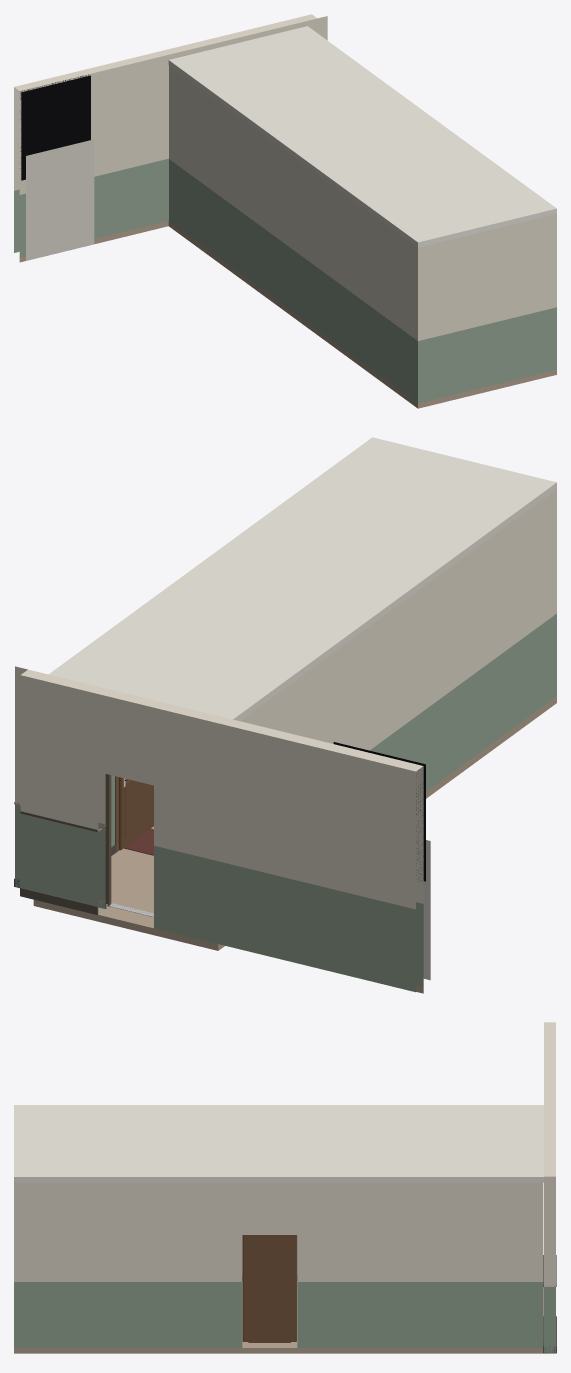
File: Kat2.fbx
3 renders of one model, top to bottom at view 1: azimuth 30°, elevation 25°; view 2: azimuth 150°, elevation 25°; view 3: azimuth 270°, elevation 25°, orthographic. The views are drawn at different scales.
Visible parts, largest first — view 1: Kat2Koridor; view 2: Kat2Koridor; view 3: Kat2Koridor.
Boxes of the visible parts, x1=… form: Kat2Koridor: x1=14, y1=14, x2=556, y2=408; Kat2Koridor: x1=14, y1=437, x2=556, y2=993; Kat2Koridor: x1=14, y1=1022, x2=556, y2=1353.
Bounding box in the file's own units: 6.21 × 3.3 × 8.92.
